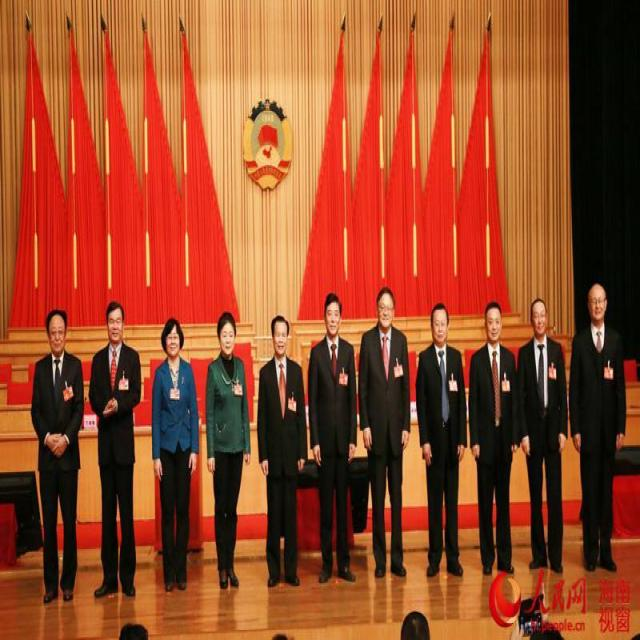non-fight: (87, 301, 143, 598), (29, 305, 83, 602), (358, 286, 412, 579), (307, 292, 358, 586), (256, 314, 309, 591), (416, 300, 468, 576), (150, 317, 199, 593), (203, 310, 250, 589)
